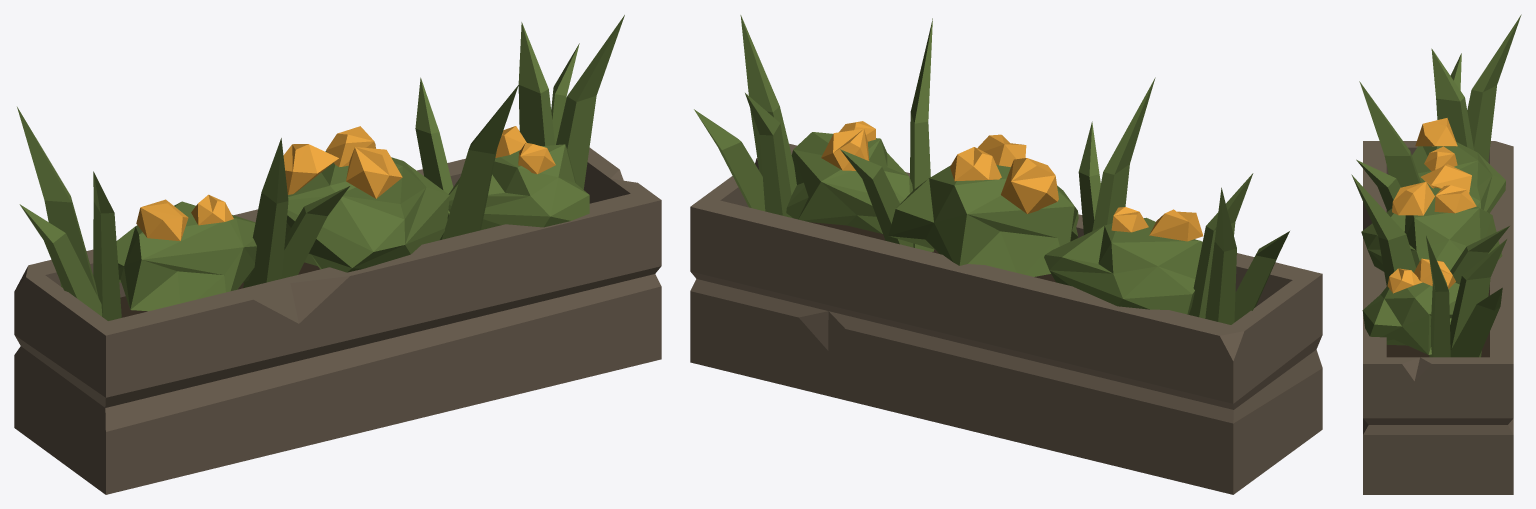
Rendered from SM_Prop_Planter_02.fbx.
3 renders of one model, left to right at view 1: azimuth 30°, elevation 25°; view 2: azimuth 150°, elevation 25°; view 3: azimuth 270°, elevation 25°, orthographic. The views are drawn at different scales.
Visible parts, largest first — view 1: SM_Prop_Planter_02; view 2: SM_Prop_Planter_02; view 3: SM_Prop_Planter_02.
Boxes of the visible parts, bbox=[...] form: SM_Prop_Planter_02: bbox=[14, 15, 661, 494]; SM_Prop_Planter_02: bbox=[690, 15, 1322, 494]; SM_Prop_Planter_02: bbox=[1351, 14, 1521, 494].
Size of the model in its own units: 151 by 78.19 by 46.3.
